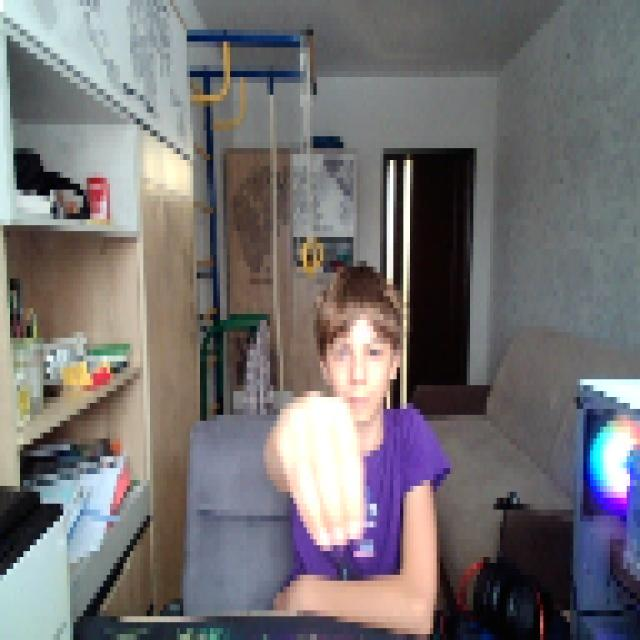left_click: (274, 379, 364, 545)
